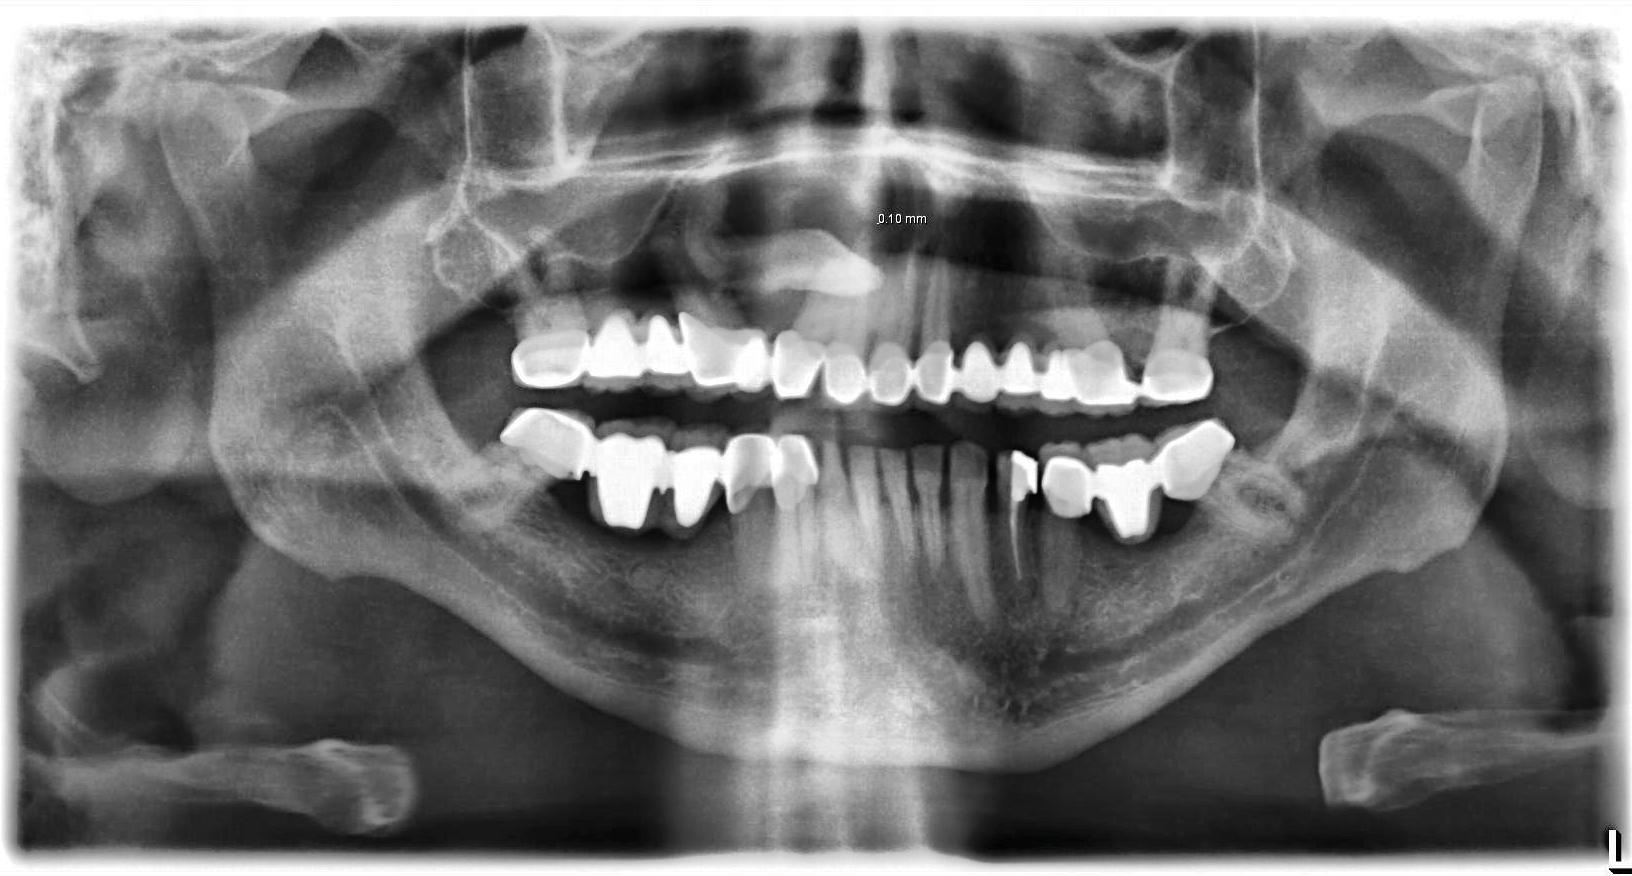dentigeroz: (610, 132, 938, 321)
